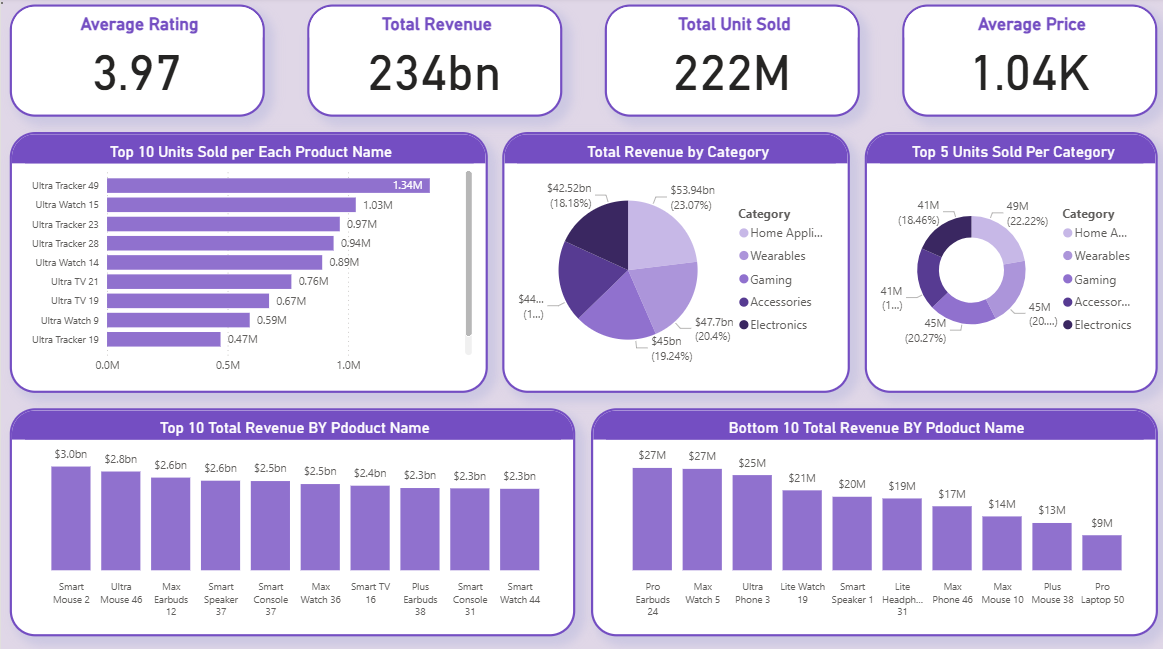

The page's visual inventory and layout, read from the dashboard file:
{"tool":"powerbi","page":{"name":"Page 1","canvas":[1280,720],"ordinal":0},"visuals":[{"type":"card","title":"Total Unit Sold","fields":{"Values":["Top_Product.TotalUnitsSold"]},"box":[663.3,8.3,280,123.3],"z":0},{"type":"card","title":"Total Revenue","fields":{"Values":["Top_Product.TotalRevenue"]},"box":[336.7,8.3,280,123.3],"z":1000},{"type":"card","title":"Average Rating","fields":{"Values":["Top_Product.AvgRating"]},"box":[10,8.3,280,123.3],"z":2000},{"type":"card","title":"Average Price","fields":{"Values":["Top_Product.AvgPrice"]},"box":[990,8.3,280,123.3],"z":3000},{"type":"clusteredColumnChart","title":"Top 10 Total Revenue BY Pdoduct Name","fields":{"Category":["Top_Product.Product Name"],"Y":["Sum(Top_Product.Revenue)"]},"box":[9.8,451.2,621.2,250.7],"z":4000},{"type":"clusteredBarChart","title":"Top 10 Units Sold per Each Product Name","fields":{"Category":["Top_Product.Product Name"],"Y":["Sum(Top_Product.Units Sold)"]},"box":[10,148.3,525,286.7],"z":5000},{"type":"pieChart","title":"Total Revenue by Category","fields":{"Y":["Sum(Top_Product.Revenue)"],"Category":["Top_Product.Category"]},"box":[550.8,148.3,381.7,286.7],"z":6000},{"type":"donutChart","title":"Top 5 Units Sold Per Category","fields":{"Y":["Sum(Top_Product.Units Sold)"],"Category":["Top_Product.Category"]},"box":[948.3,148.3,321.7,286.7],"z":7000},{"type":"clusteredColumnChart","title":"Bottom 10 Total Revenue BY Pdoduct Name","fields":{"Category":["Top_Product.Product Name"],"Y":["Sum(Top_Product.Revenue)"]},"box":[648.1,451.2,622.4,250.7],"z":7001}]}

Visuals, with their boxes in screenshot pixels (x1, y1, x2, y2), scaled from the page's 1280x720 canvas onto the 1163x649 screenshot:
"Total Unit Sold" card: [left=603, top=7, right=857, bottom=119]
"Total Revenue" card: [left=306, top=7, right=560, bottom=119]
"Average Rating" card: [left=9, top=7, right=263, bottom=119]
"Average Price" card: [left=900, top=7, right=1154, bottom=119]
"Top 10 Total Revenue BY Pdoduct Name" clusteredColumnChart: [left=9, top=407, right=573, bottom=633]
"Top 10 Units Sold per Each Product Name" clusteredBarChart: [left=9, top=134, right=486, bottom=392]
"Total Revenue by Category" pieChart: [left=500, top=134, right=847, bottom=392]
"Top 5 Units Sold Per Category" donutChart: [left=862, top=134, right=1154, bottom=392]
"Bottom 10 Total Revenue BY Pdoduct Name" clusteredColumnChart: [left=589, top=407, right=1154, bottom=633]
